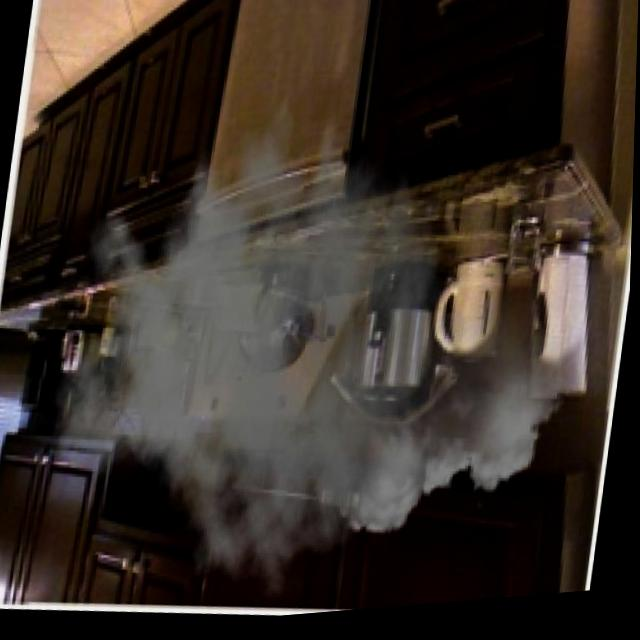Smoke: (27, 66, 613, 610)
